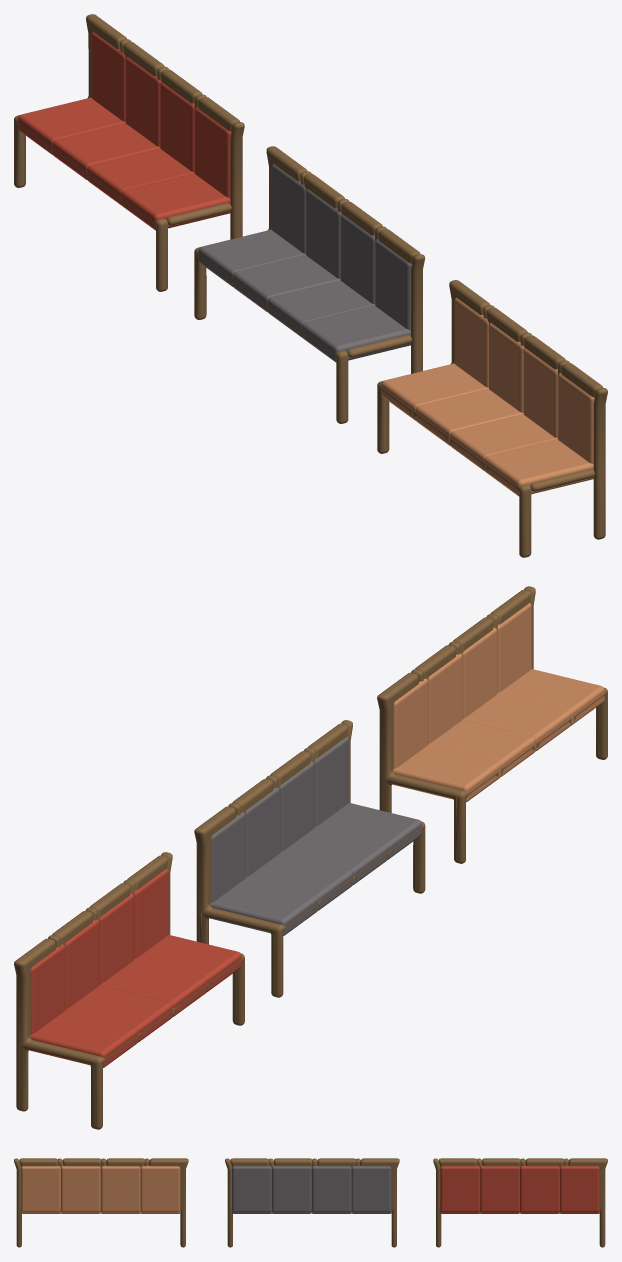
Rendered from chairs.fbx.
3 renders of one model, top to bottom at view 1: azimuth 30°, elevation 25°; view 2: azimuth 150°, elevation 25°; view 3: azimuth 270°, elevation 25°, orthographic. The views are drawn at different scales.
Visible parts, largest first — view 1: chairs; view 2: chairs; view 3: chairs.
Part boxes in pixels (x1=…): chairs: x1=14, y1=14, x2=607, y2=557; chairs: x1=14, y1=586, x2=607, y2=1129; chairs: x1=14, y1=1158, x2=607, y2=1247.
Size of the model in its own units: 137 by 227 by 1394.
